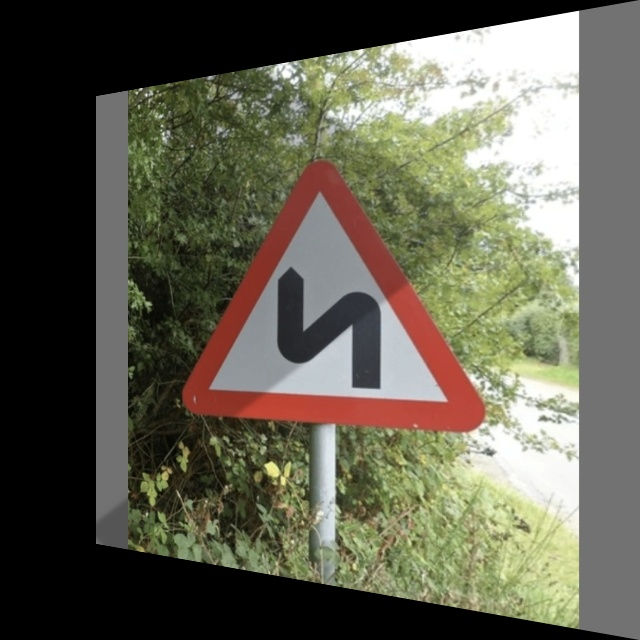Left_Reverse_Bend: (182, 143, 485, 433)
